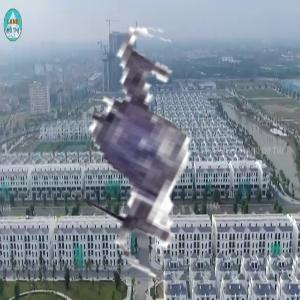drone: (19, 22, 267, 270)
